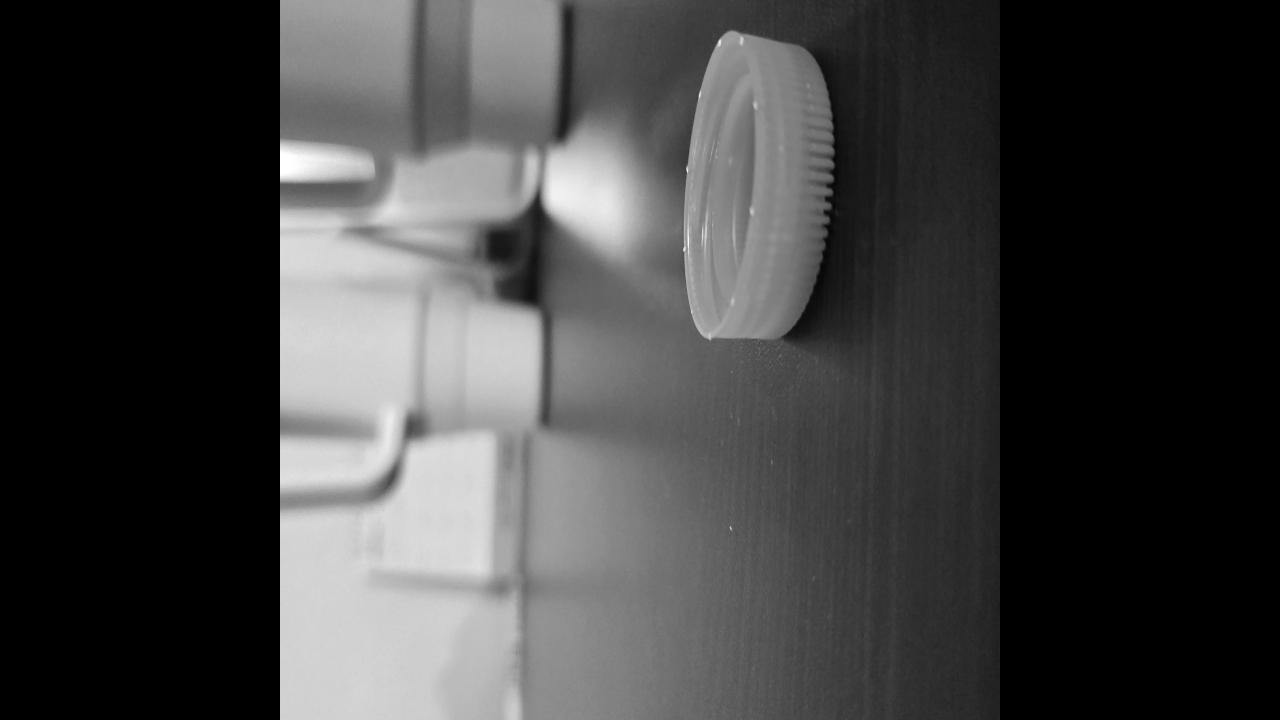bottle_cap: (686, 32, 830, 334)
